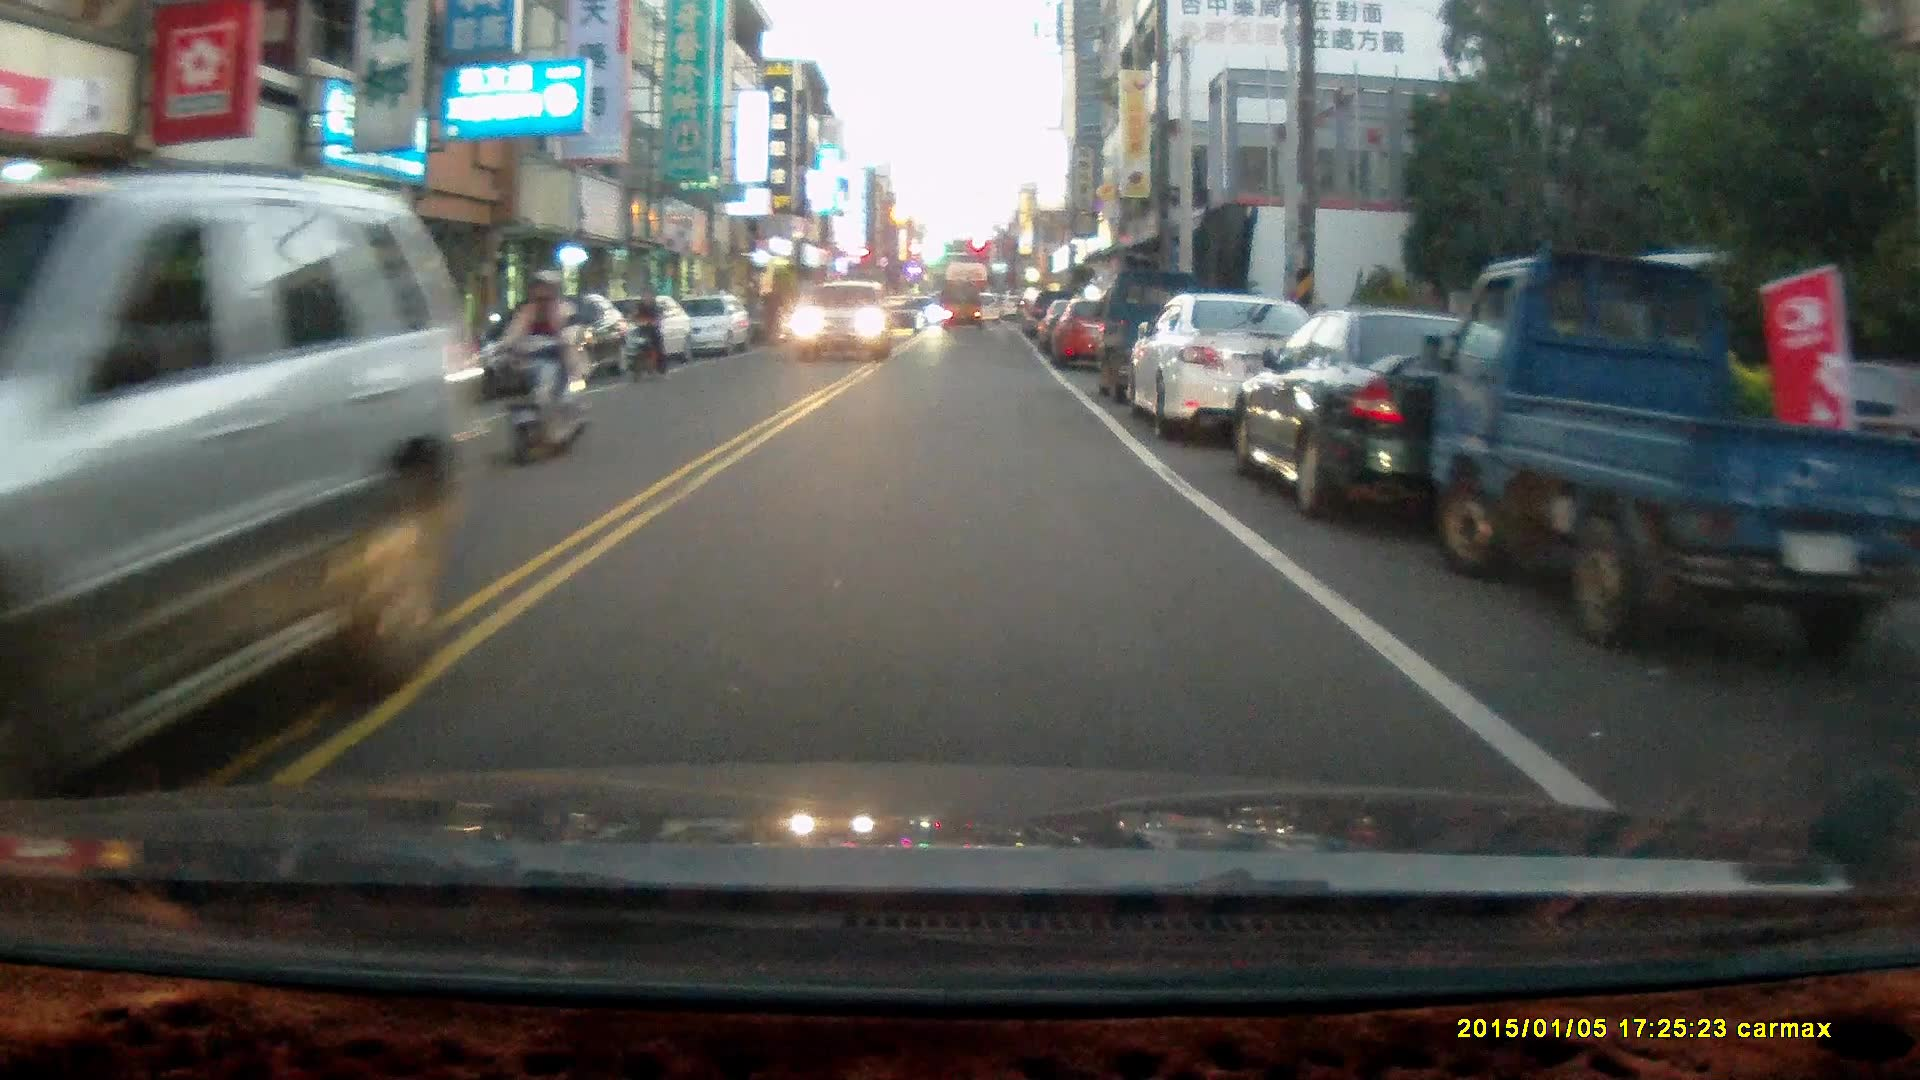pedestrian: (762, 281, 784, 342)
rider: (499, 267, 588, 466), (627, 287, 670, 380)
vehicle: (1430, 248, 1904, 654), (1236, 313, 1628, 535), (1130, 293, 1327, 446), (789, 281, 892, 361), (1053, 299, 1137, 375), (679, 295, 758, 363), (880, 295, 931, 340), (943, 283, 984, 334)
